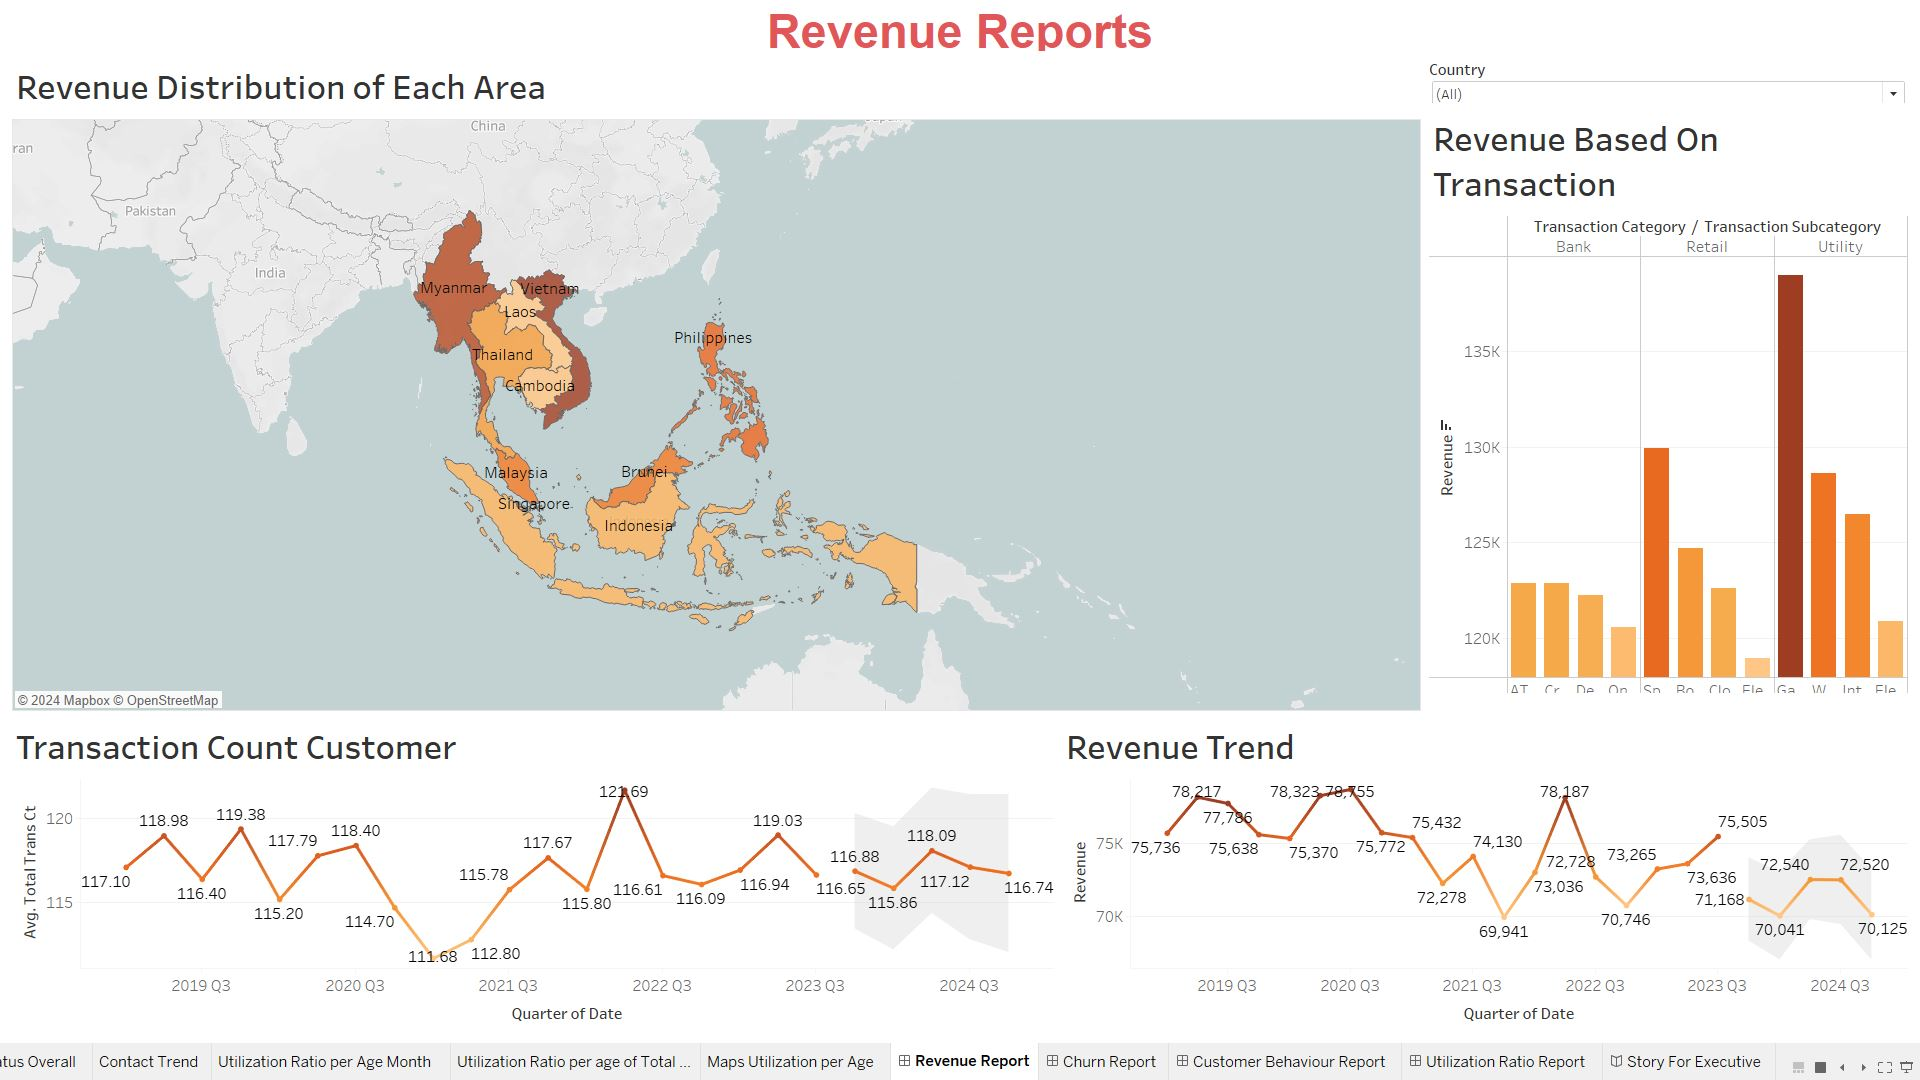

What the dashboard file says about the page in this screenshot:
{"tool":"tableau","page":{"name":"Revenue Report","canvas":[1000,1000],"units":"permille","ordinal":2},"visuals":[{"type":"title","box":[4.8,9.3,990.3,159.1]},{"type":"filter","title":"Revenue Distribution of Each Area","param":"[federated.1ccpgh20nh87yk13rwn9y19mnfh2].[none:Country:nk]","box":[4.8,168.4,677.2,65.2]},{"type":"filter","title":"Revenue Based On Transaction","param":"[federated.1ccpgh20nh87yk13rwn9y19mnfh2].[none:Transaction_Category:nk]","box":[682,168.4,313.2,65.2]},{"type":"worksheet","title":"Revenue Distribution of Each Area","mark":"Automatic","box":[4.8,233.6,677.2,531.2]},{"type":"worksheet","title":"Revenue Based On Transaction","mark":"Automatic","rows":["Revenue"],"cols":["Transaction_Category","Transaction_Subcategory"],"box":[682,233.6,313.2,463.3]},{"type":"filter","title":"Transaction Count Trendline","param":"[federated.1ccpgh20nh87yk13rwn9y19mnfh2].[tqr:Date:qk]","box":[682,696.9,313.2,67.9]},{"type":"worksheet","title":"Transaction Count Trendline","mark":"Automatic","rows":["Total_Trans_Ct"],"cols":["Date"],"box":[4.8,764.8,540.5,226]},{"type":"worksheet","title":"Revenue Trend","mark":"Automatic","rows":["Revenue"],"cols":["Date"],"box":[545.3,764.8,449.9,226]}]}

Visuals, with their boxes on the dashboard's canvas, which has no fixed pixel size, in thousandths of its width and height (x1, y1, x2, y2). These are canvas units, not pixel positions in the 1920x1080 screenshot, which may show the page scaled, cropped or inside an application window:
title: 5,9,995,168
"Revenue Distribution of Each Area" filter: 5,168,682,234
"Revenue Based On Transaction" filter: 682,168,995,234
"Revenue Distribution of Each Area" worksheet: 5,234,682,765
"Revenue Based On Transaction" worksheet: 682,234,995,697
"Transaction Count Trendline" filter: 682,697,995,765
"Transaction Count Trendline" worksheet: 5,765,545,991
"Revenue Trend" worksheet: 545,765,995,991
